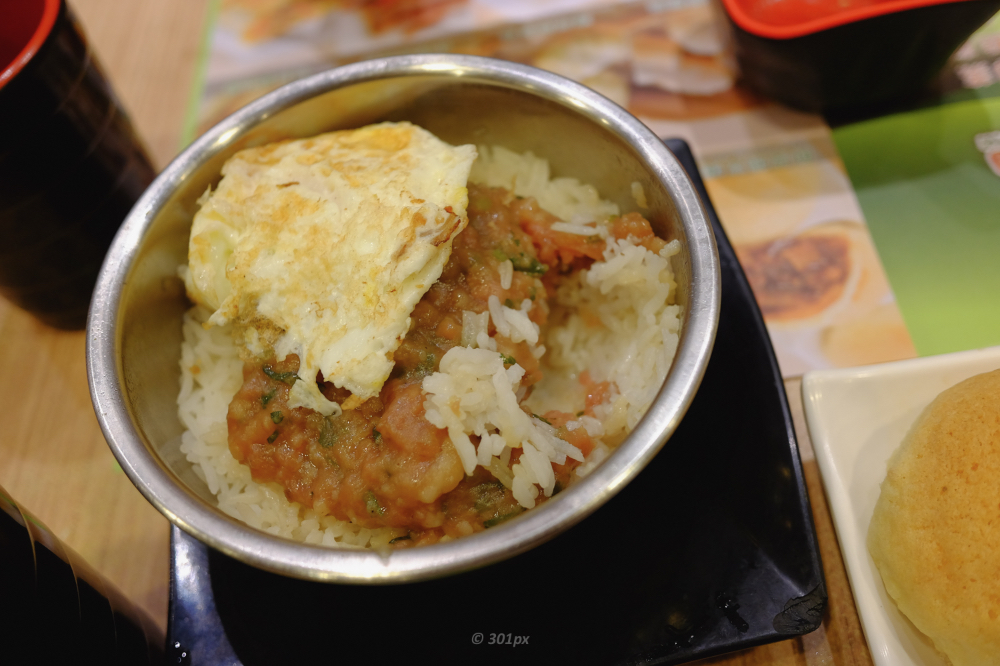fried egg: (205, 143, 421, 361)
plain rice: (183, 387, 229, 481)
